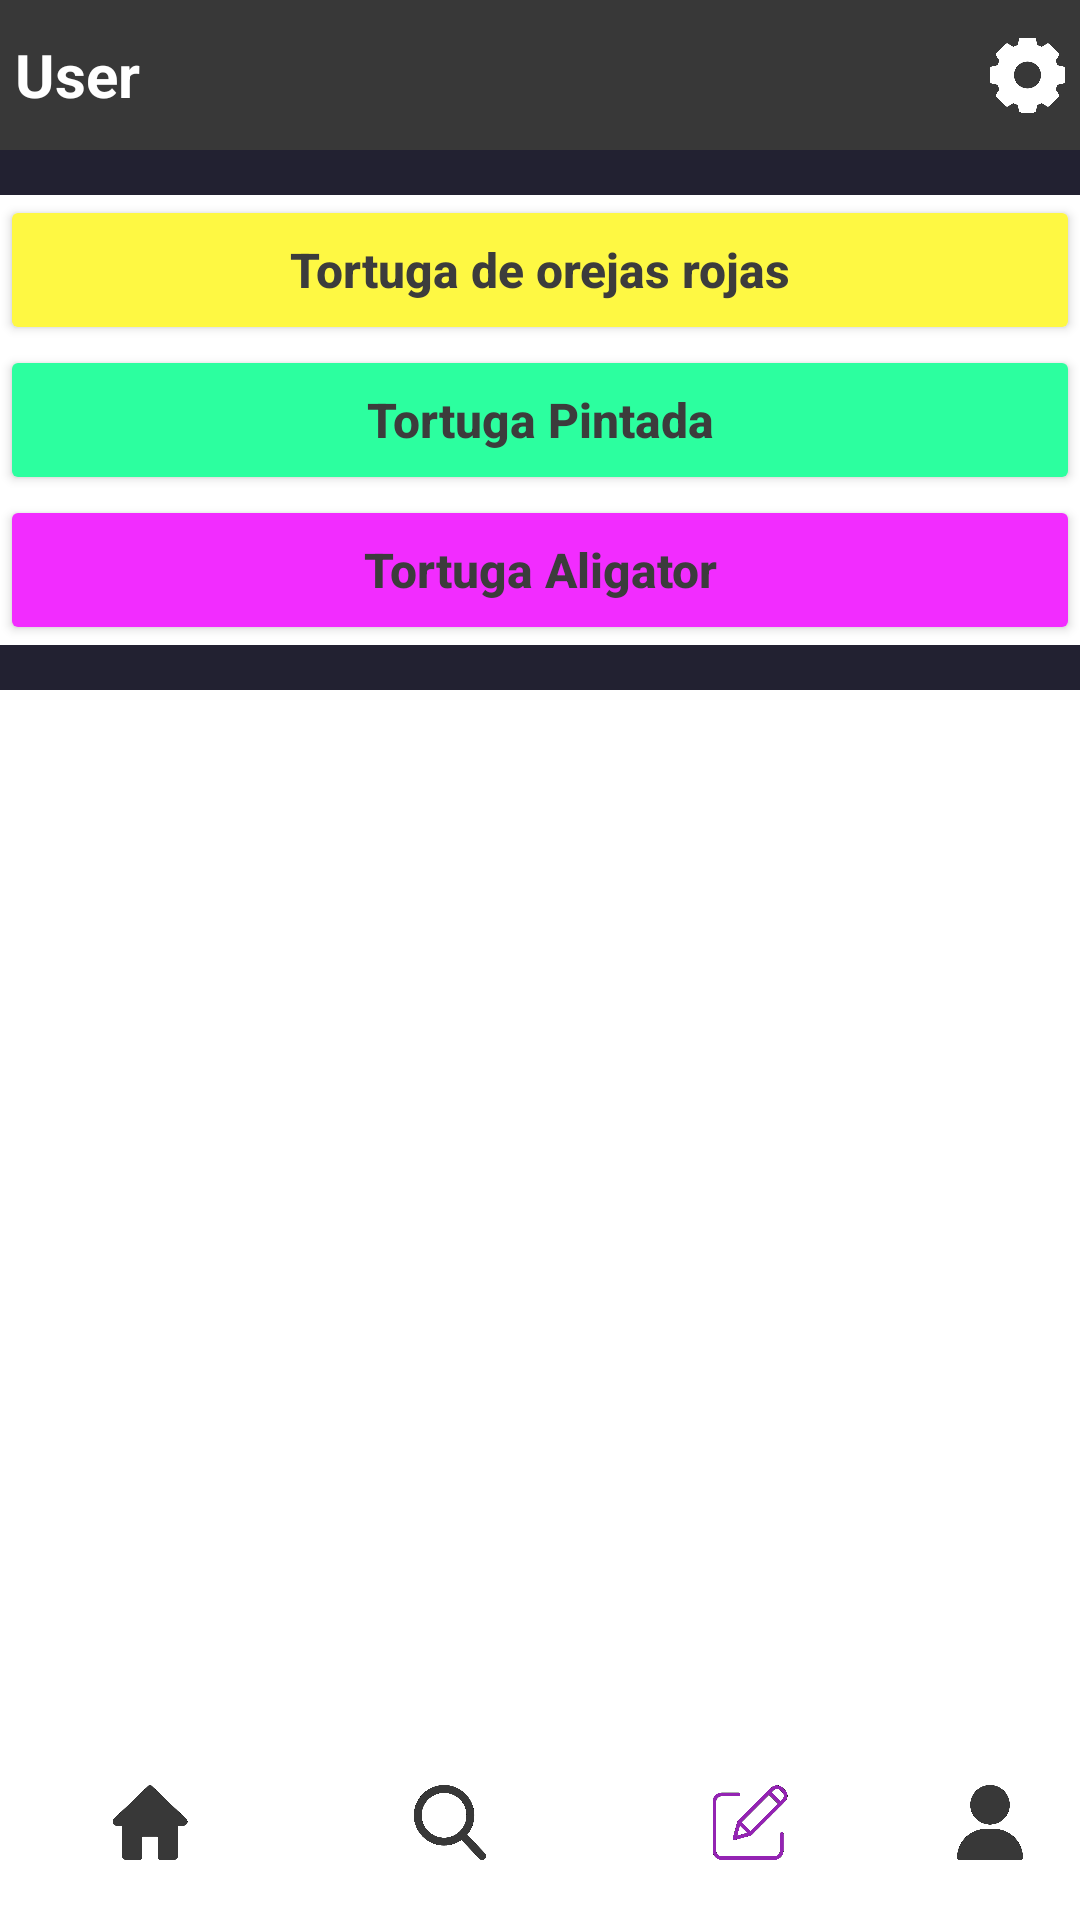

Icon click points for this 1080 x 1920 phone screenshot, format (x,y):
edit: (750,1822)
home: (150,1822)
search: (450,1822)
setting: (1027,75)
user: (990,1822)
